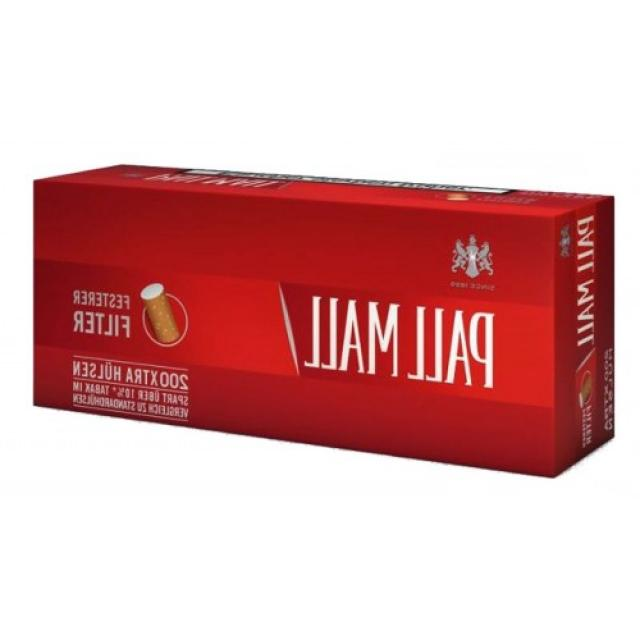pallmall: (0, 161, 640, 494)
